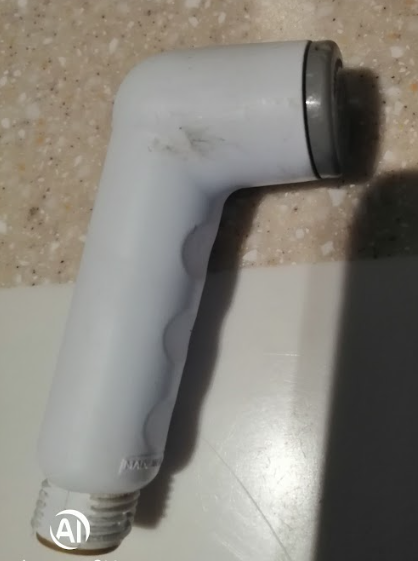Toilet: (18, 24, 360, 548)
